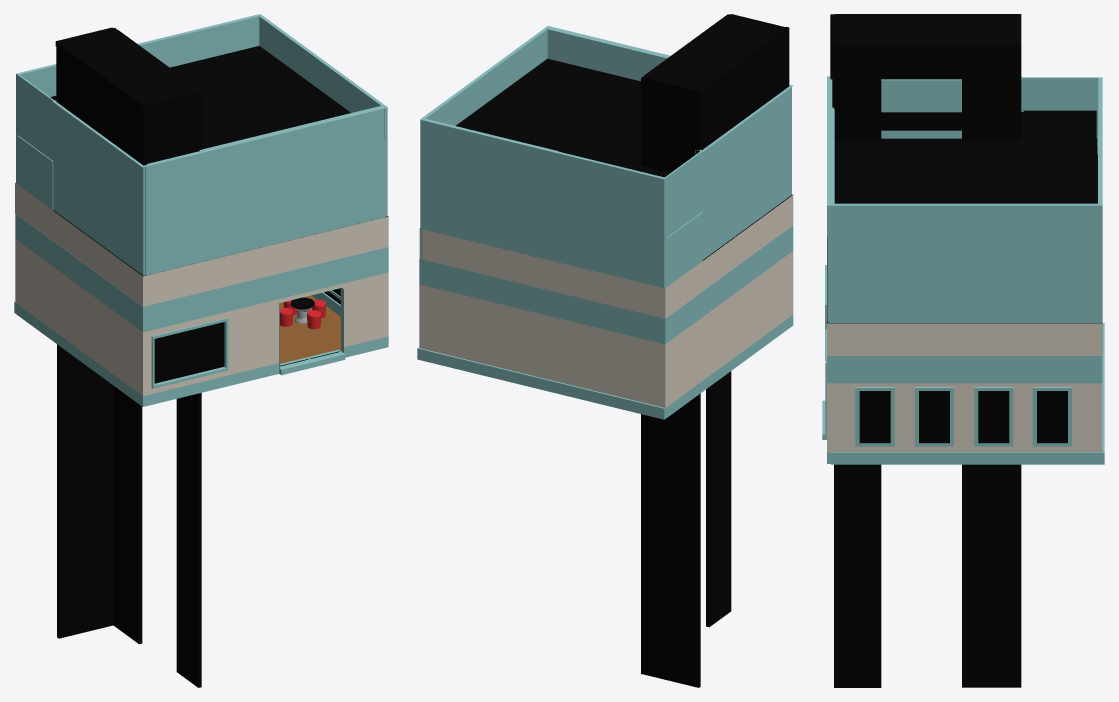
File: building.glb
3 views of the same model, side by side, from view 1: azimuth 30°, elevation 25°; view 2: azimuth 150°, elevation 25°; view 3: azimuth 270°, elevation 25° (orthographic). The views are drawn at different scales.
Parts seen in each view (by area): view 1: Cube.002, Wall.002, Cube.006, 2F, Wall.001, Cube.015, Cube.008, 2F.005, Cube.004, Cube.005, Cube.011, Cube.014 (+4 smaller); view 2: Wall.001, Cube.003, Cube.006, 2F, Cube.008, Cube.015, 2F.005, Cube.004, Cube.011, Cube.014, Cube.005; view 3: Cube.001, Wall.000, Cube.005, Cube.008, Cube.004, 2F, Cube.014, 2F.005, Cube.015, Cube.011, Cube.010, Cube.009 (+3 smaller).
Boxes of the visible parts, x1,y1,x2,y2 form: Cube.002: (145, 108, 385, 275); Wall.002: (141, 247, 388, 406); Cube.006: (57, 344, 113, 638); 2F: (15, 135, 388, 306); Wall.001: (14, 213, 140, 405); Cube.015: (16, 74, 144, 275); Cube.008: (170, 46, 350, 149); 2F.005: (52, 14, 387, 167); Cube.004: (176, 89, 201, 687); Cube.005: (113, 28, 142, 644); Cube.011: (56, 43, 146, 165); Cube.014: (55, 27, 198, 105); Wall.001: (417, 227, 791, 419); Cube.003: (420, 119, 665, 288); Cube.006: (643, 79, 700, 687); 2F: (419, 195, 793, 318); Cube.008: (456, 58, 644, 170); Cube.015: (664, 87, 791, 288); 2F.005: (420, 26, 793, 154); Cube.004: (706, 14, 731, 627); Cube.011: (700, 26, 789, 149); Cube.014: (643, 14, 786, 96); Cube.005: (641, 75, 645, 674); Cube.001: (828, 205, 1100, 322); Wall.000: (831, 356, 1097, 464); Cube.005: (962, 44, 1021, 687); Cube.008: (835, 138, 1097, 203); Cube.004: (834, 44, 881, 687); 2F: (827, 143, 1102, 355); Cube.014: (834, 14, 1021, 44); 2F.005: (827, 76, 1102, 236); Cube.015: (881, 77, 1098, 142); Cube.011: (830, 14, 961, 130); Cube.010: (841, 44, 1012, 68); Cube.009: (1021, 110, 1096, 138).
Size of what is drawn, in the model's own units: 10.38 by 23.91 by 9.51.
